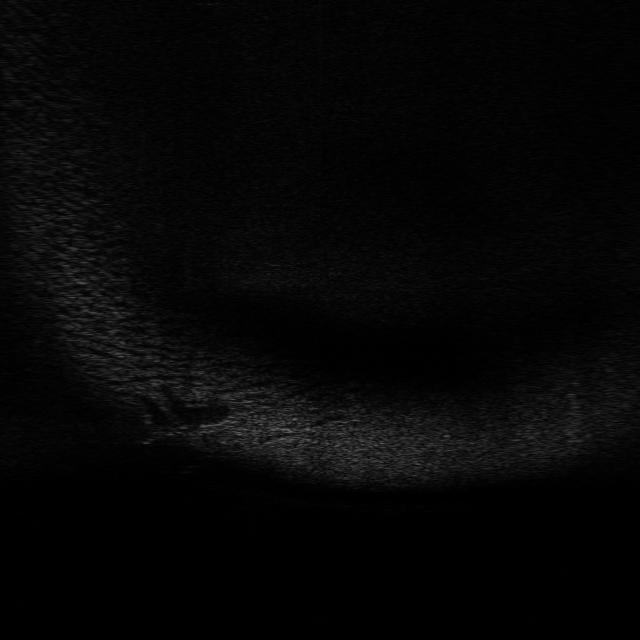plane: (136, 416, 220, 451)
